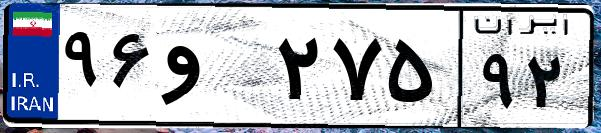2: (270, 28, 330, 110), (525, 38, 570, 115)
5: (385, 28, 445, 110)
6: (110, 28, 158, 98)
7: (330, 28, 385, 110)
9: (57, 26, 110, 100), (475, 38, 525, 113)
و: (158, 20, 270, 120)
